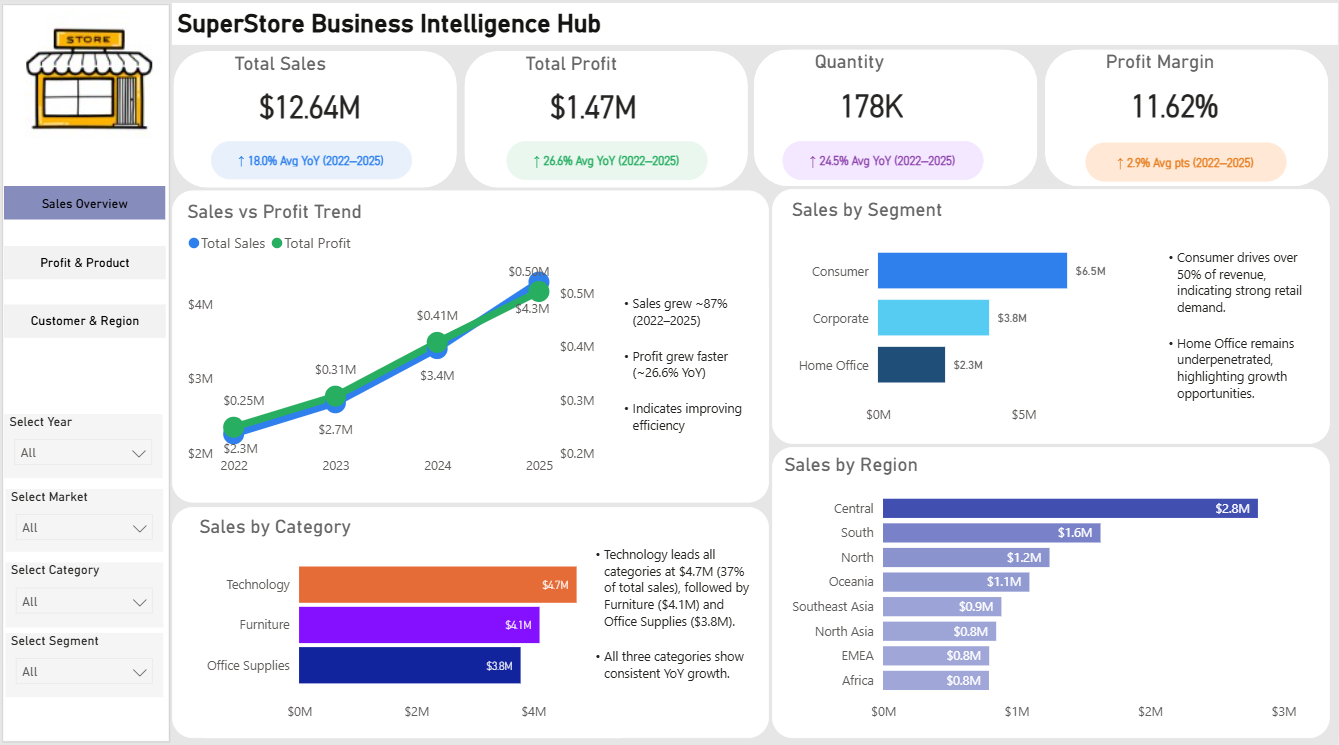

The dashboard page shown, as its layout file describes it:
{"tool":"powerbi","page":{"name":"Sales Overview","canvas":[1280,720],"ordinal":0},"visuals":[{"type":"shape","box":[3.9,9.7,160.1,704.5],"z":0},{"type":"shape","box":[168.2,54.2,270.4,130.4],"z":0,"group":"g1"},{"type":"cardVisual","title":"Total Sales","fields":{"Data":["Measure.Total Sales"]},"box":[220.7,55.8,197.2,81.1],"z":1000,"group":"g1"},{"type":"slicer","title":"Select Year","fields":{"Values":["Date.Year"]},"box":[6.4,400.8,151.2,61.2],"z":1000},{"type":"cardVisual","title":"Total Sales","fields":{"Data":["Measure.Sales KPI Label1"]},"box":[204.6,139.8,191.7,36.7],"z":2000,"group":"g1"},{"type":"slicer","title":"Select Market","fields":{"Values":["Region.market"]},"box":[7,473.3,150.6,60],"z":2000},{"type":"shape","box":[446.6,54.3,270.4,130.4],"z":3000,"group":"g1"},{"type":"slicer","title":"Select Category","fields":{"Values":["Product.category"]},"box":[7,543.3,150.6,61.9],"z":3000},{"type":"cardVisual","title":"Total Profit","fields":{"Data":["Measure.Total Profit"]},"box":[499.1,55.9,197.2,81.1],"z":4000,"group":"g1"},{"type":"slicer","title":"Select Segment","fields":{"Values":["Customer.segment"]},"box":[7,610.8,150.6,61.2],"z":4000},{"type":"shape","box":[722.6,53.1,270.4,130.4],"z":5000,"group":"g1"},{"type":"actionButton","box":[6,183.8,154.3,32.1],"z":5000},{"type":"image","box":[5.9,13.8,154.3,125.7],"z":6000},{"type":"cardVisual","title":"Quantity","fields":{"Data":["Measure.Total Quantity"]},"box":[775.1,54.7,197.2,81.1],"z":6000,"group":"g1"},{"type":"textbox","box":[166.6,9.1,1113.4,39.8],"z":7000},{"type":"shape","box":[1001,53.2,270.4,130.4],"z":7000,"group":"g1"},{"type":"cardVisual","title":"Profit Margin","fields":{"Data":["Measure.Profit Margin"]},"box":[1053.5,54.8,197.2,81.1],"z":8000,"group":"g1"},{"type":"barChart","title":"Sales by Region","fields":{"Category":["Region.Region"],"Y":["Measure.Total Sales"]},"box":[739.1,432.6,532.8,277.9],"z":8000},{"type":"group","id":"g1","title":"Group 1","box":[168.2,53.1,1103.2,131.6],"z":9000},{"type":"cardVisual","title":"Total Sales","fields":{"Data":["Measure.Profit KPI Label"]},"box":[486.6,139.9,191.9,37.2],"z":9000,"group":"g1"},{"type":"cardVisual","title":"Total Sales","fields":{"Data":["Measure.Order Qty KPI Label"]},"box":[750.2,139.9,191.9,37.2],"z":10000,"group":"g1"},{"type":"actionButton","box":[5.9,240.4,154.5,31.8],"z":10000},{"type":"cardVisual","title":"Total Sales","fields":{"Data":["Measure.Margin KPI Label"]},"box":[1039.5,141.4,191.9,37.2],"z":11000,"group":"g1"},{"type":"actionButton","box":[5.9,295.9,154.5,31.8],"z":11000},{"type":"shape","box":[165.7,187.2,570.1,297.9],"z":12000},{"type":"lineChart","title":"Sales vs Profit Trend","fields":{"Y":["Measure.Total Sales"],"Category":["Date.Year"],"Y2":["Measure.Total Profit"]},"box":[169,190.5,412.5,285],"z":13000},{"type":"textbox","box":[583,282.2,153.3,144.7],"z":14000},{"type":"shape","box":[165.7,489.4,570.1,220.6],"z":15000},{"type":"clusteredBarChart","title":"Sales by Category","fields":{"Y":["Measure.Total Sales"],"Category":["Product.category"]},"box":[180,490.8,431.1,219.2],"z":16000},{"type":"textbox","box":[555.8,521.4,167.6,173.3],"z":17000},{"type":"shape","box":[738.7,185.7,532.8,243.5],"z":18000},{"type":"barChart","title":"Sales by Segment","fields":{"Category":["Customer.segment"],"Y":["Measure.Total Sales"]},"box":[746.3,189.1,340.9,237.8],"z":19000},{"type":"textbox","box":[1102.9,237.8,167.6,179],"z":20000}]}

Visuals, with their boxes in screenshot pixels (x1, y1, x2, y2), scaled from the page's 1280x720 canvas onto the 1339x745 screenshot:
shape: select_region(4, 10, 172, 739)
shape: select_region(176, 56, 459, 191)
"Total Sales" cardVisual: select_region(231, 58, 437, 142)
"Select Year" slicer: select_region(7, 415, 165, 478)
"Total Sales" cardVisual: select_region(214, 145, 415, 183)
"Select Market" slicer: select_region(7, 490, 165, 552)
shape: select_region(467, 56, 750, 191)
"Select Category" slicer: select_region(7, 562, 165, 626)
"Total Profit" cardVisual: select_region(522, 58, 728, 142)
"Select Segment" slicer: select_region(7, 632, 165, 695)
shape: select_region(756, 55, 1039, 190)
actionButton: select_region(6, 190, 168, 223)
image: select_region(6, 14, 168, 144)
"Quantity" cardVisual: select_region(811, 57, 1017, 141)
textbox: select_region(174, 9, 1338, 51)
shape: select_region(1047, 55, 1330, 190)
"Profit Margin" cardVisual: select_region(1102, 57, 1308, 141)
"Sales by Region" barChart: select_region(773, 448, 1331, 735)
"Group 1" group: select_region(176, 55, 1330, 191)
"Total Sales" cardVisual: select_region(509, 145, 710, 183)
"Total Sales" cardVisual: select_region(785, 145, 986, 183)
actionButton: select_region(6, 249, 168, 282)
"Total Sales" cardVisual: select_region(1087, 146, 1288, 185)
actionButton: select_region(6, 306, 168, 339)
shape: select_region(173, 194, 770, 502)
"Sales vs Profit Trend" lineChart: select_region(177, 197, 608, 492)
textbox: select_region(610, 292, 770, 442)
shape: select_region(173, 506, 770, 735)
"Sales by Category" clusteredBarChart: select_region(188, 508, 639, 735)
textbox: select_region(581, 540, 757, 719)
shape: select_region(773, 192, 1330, 444)
"Sales by Segment" barChart: select_region(781, 196, 1137, 442)
textbox: select_region(1154, 246, 1329, 431)
